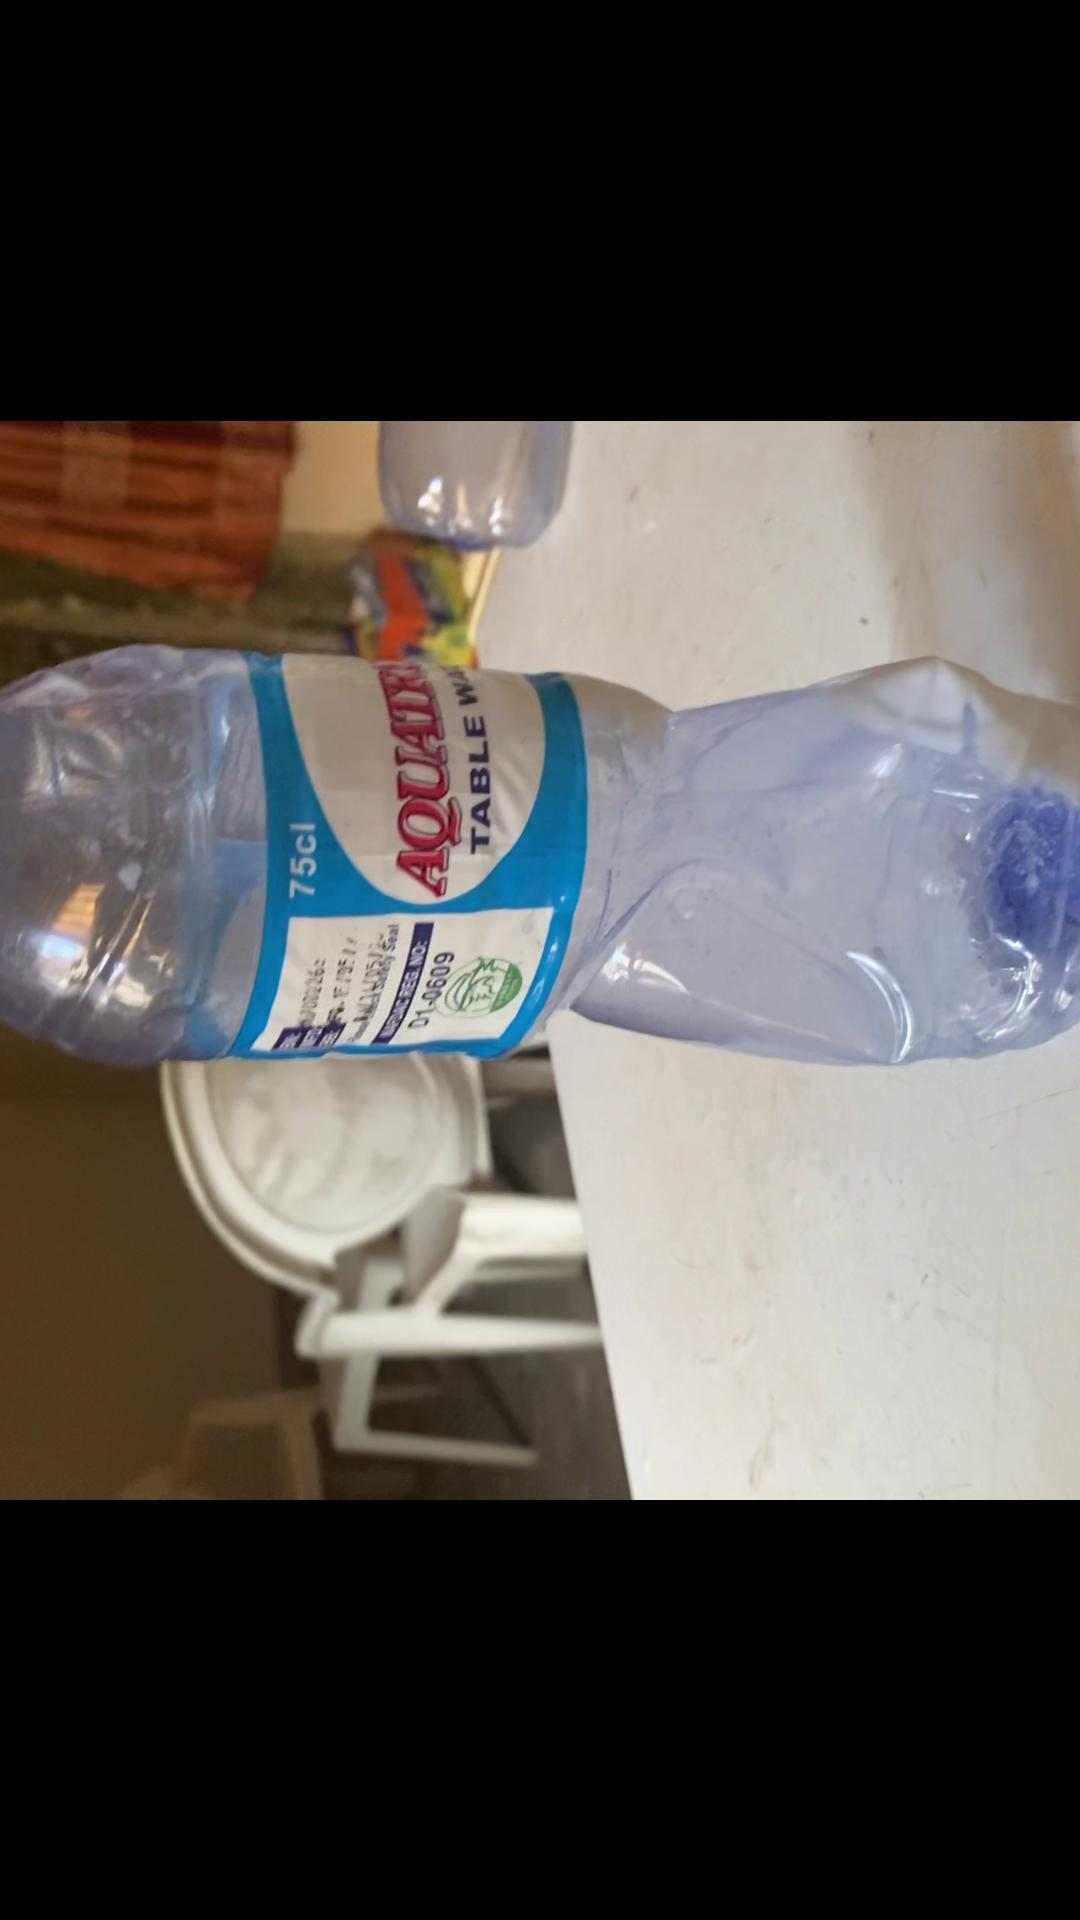crumbled: (0, 633, 1080, 1073)
label: (241, 654, 591, 1052)
